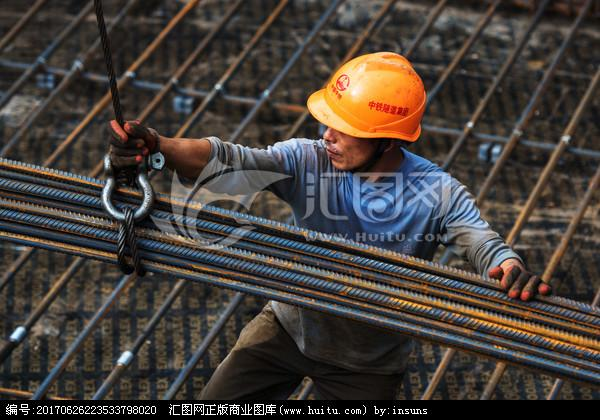helmet: (309, 52, 428, 140)
